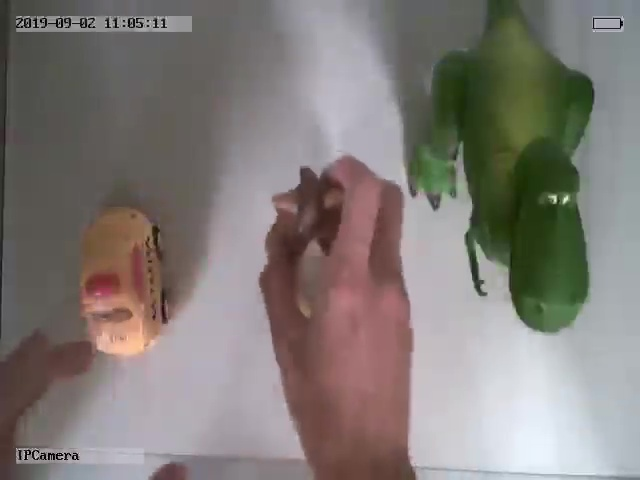car: (79, 206, 171, 357)
rex: (409, 3, 593, 337)
